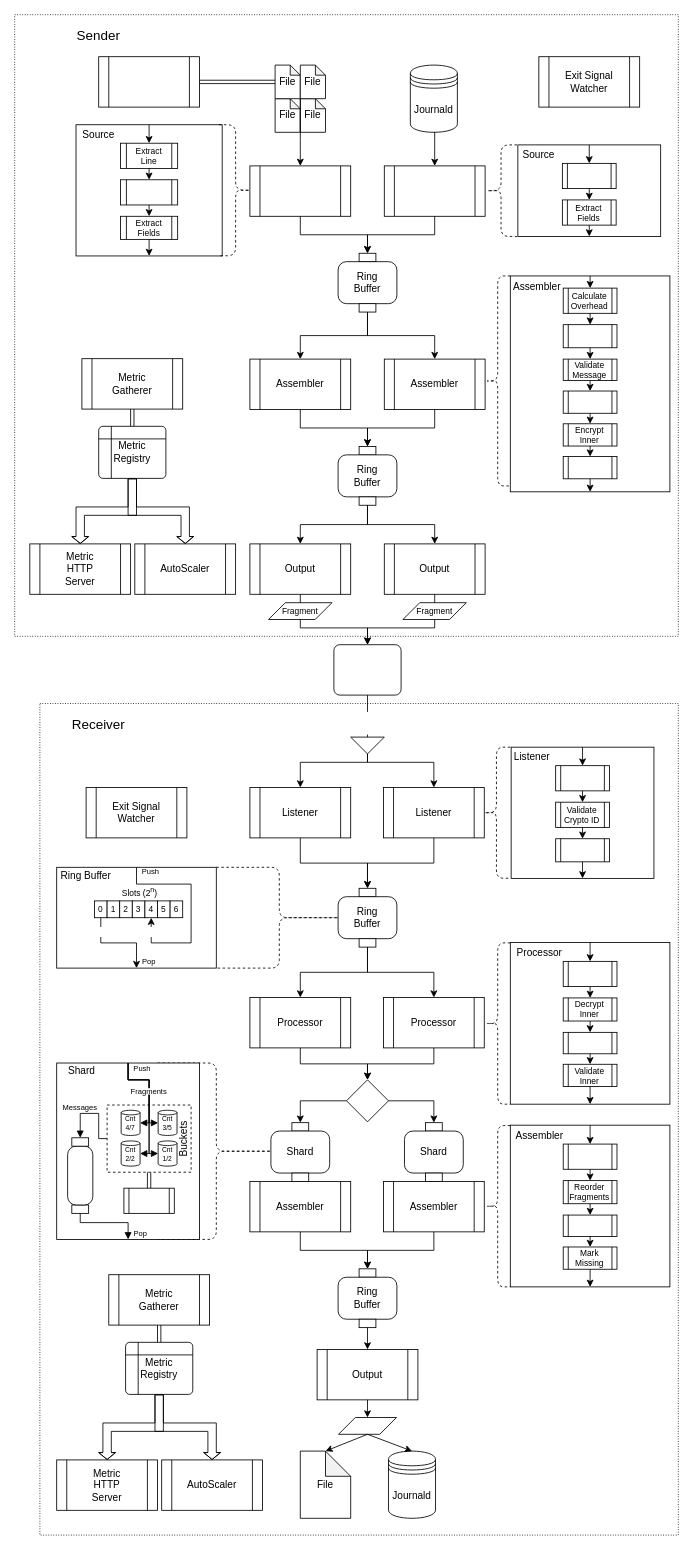
Image size: 693x1550. Some labels were removed from this diagram. Each missing label, with the centre of its shape:
"All Frag Equal" belongs at (589,1156).
"Combined Fragments" belongs at (589,1225).
"Deadline Evaluator" belongs at (148,1200).
"Deserialize Inner" belongs at (589,1043).
"Deserialize Outer" belongs at (589,974).
"Filled Buckets" belongs at (80,1175).
"Fragment Message" belongs at (589,336).
"Head" belongs at (150,932).
"Identify Format" belongs at (149,192).
"Inotify Watcher" belongs at (149,81).
"Message" belongs at (367,1425).
"Modulus Routing" belongs at (367,1100).
"Network" belongs at (367,669).
"Read Entry" belongs at (589,176).
"Read UDP Payload" belongs at (582,778).
"Serialize Inner" belongs at (589,401).
"Serialize Outer" belongs at (589,467).
"Source (Files)" belongs at (300,190).
"Source (Journald)" belongs at (434,190).
"Tail" belongs at (100,932).
"UDP Port 8514" belongs at (367,722).
"Validate Length" belongs at (582,850).
